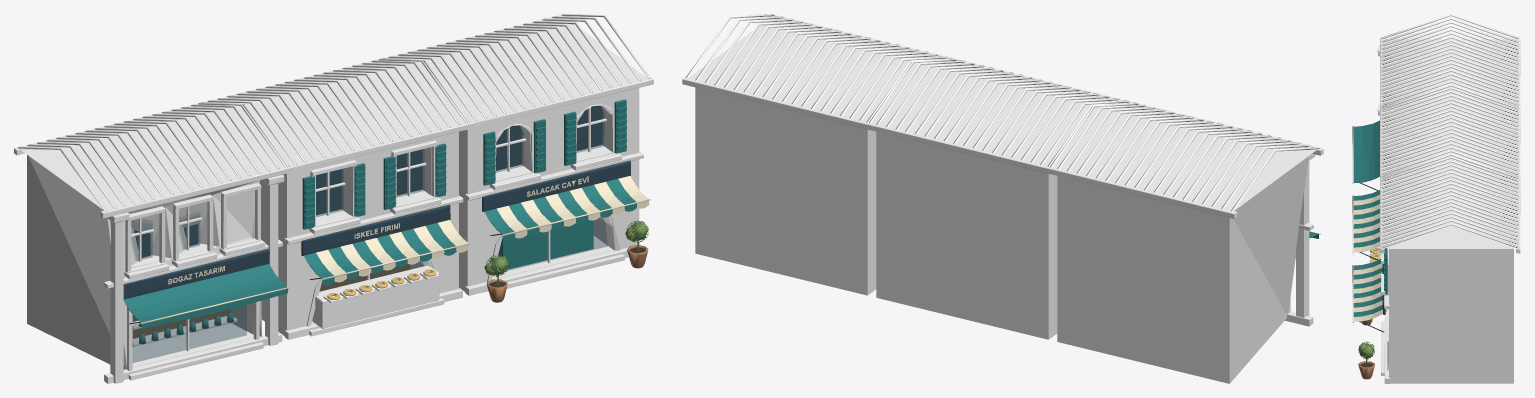
The model's file is DistrictBlock_7_0_LOD1.glb.
The picture shows the model from 3 angles, left to right: view 1: azimuth 30°, elevation 25°; view 2: azimuth 150°, elevation 25°; view 3: azimuth 270°, elevation 25°; orthographic projection. The views are drawn at different scales.
Visible parts, largest first — view 1: RK_DistrictBlock_7_0_LOD1_LC_Tile, RK_DistrictBlock_7_0_LOD1_LC_Wood, RK_DistrictBlock_7_0_LOD1_LC_Lime, RK_DistrictBlock_7_0_LOD1_LC_Cream, RK_DistrictBlock_7_0_LOD1_LC_Teal, RK_DistrictBlock_7_0_LOD1_LC_Ink, RK_DistrictBlock_7_0_LOD1_LC_Glass, RK_DistrictBlock_7_0_LOD1_LC_Canvas, RK_DistrictBlock_7_0_LOD1_LC_Interior, RK_DistrictBlock_7_0_LOD1_RK_Terracotta, RK_DistrictBlock_7_0_LOD1_RK_Leaf, RK_DistrictBlock_7_0_LOD1_LC_Gold; view 2: RK_DistrictBlock_7_0_LOD1_LC_Cream, RK_DistrictBlock_7_0_LOD1_LC_Tile, RK_DistrictBlock_7_0_LOD1_LC_Wood, RK_DistrictBlock_7_0_LOD1_LC_Lime; view 3: RK_DistrictBlock_7_0_LOD1_LC_Tile, RK_DistrictBlock_7_0_LOD1_LC_Cream, RK_DistrictBlock_7_0_LOD1_LC_Teal, RK_DistrictBlock_7_0_LOD1_LC_Canvas, RK_DistrictBlock_7_0_LOD1_LC_Wood, RK_DistrictBlock_7_0_LOD1_LC_Lime, RK_DistrictBlock_7_0_LOD1_RK_Terracotta, RK_DistrictBlock_7_0_LOD1_RK_Leaf.
Boxes of the visible parts, bbox=[...] form: RK_DistrictBlock_7_0_LOD1_LC_Tile: bbox=[17, 14, 650, 211]; RK_DistrictBlock_7_0_LOD1_LC_Wood: bbox=[14, 15, 653, 369]; RK_DistrictBlock_7_0_LOD1_LC_Lime: bbox=[104, 104, 643, 383]; RK_DistrictBlock_7_0_LOD1_LC_Cream: bbox=[260, 88, 639, 335]; RK_DistrictBlock_7_0_LOD1_LC_Teal: bbox=[123, 99, 636, 345]; RK_DistrictBlock_7_0_LOD1_LC_Ink: bbox=[123, 105, 630, 299]; RK_DistrictBlock_7_0_LOD1_LC_Glass: bbox=[131, 106, 607, 362]; RK_DistrictBlock_7_0_LOD1_LC_Canvas: bbox=[140, 176, 650, 324]; RK_DistrictBlock_7_0_LOD1_LC_Interior: bbox=[132, 264, 410, 338]; RK_DistrictBlock_7_0_LOD1_RK_Terracotta: bbox=[486, 245, 648, 302]; RK_DistrictBlock_7_0_LOD1_RK_Leaf: bbox=[484, 220, 648, 276]; RK_DistrictBlock_7_0_LOD1_LC_Gold: bbox=[327, 269, 436, 299]; RK_DistrictBlock_7_0_LOD1_LC_Cream: bbox=[695, 87, 1057, 339]; RK_DistrictBlock_7_0_LOD1_LC_Tile: bbox=[685, 14, 1320, 211]; RK_DistrictBlock_7_0_LOD1_LC_Wood: bbox=[682, 15, 1323, 383]; RK_DistrictBlock_7_0_LOD1_LC_Lime: bbox=[1285, 153, 1315, 326]; RK_DistrictBlock_7_0_LOD1_LC_Tile: bbox=[1381, 14, 1518, 248]; RK_DistrictBlock_7_0_LOD1_LC_Cream: bbox=[1389, 248, 1513, 383]; RK_DistrictBlock_7_0_LOD1_LC_Teal: bbox=[1353, 120, 1387, 316]; RK_DistrictBlock_7_0_LOD1_LC_Canvas: bbox=[1352, 126, 1382, 325]; RK_DistrictBlock_7_0_LOD1_LC_Wood: bbox=[1380, 37, 1520, 255]; RK_DistrictBlock_7_0_LOD1_LC_Lime: bbox=[1369, 45, 1390, 383]; RK_DistrictBlock_7_0_LOD1_RK_Terracotta: bbox=[1358, 318, 1374, 379]; RK_DistrictBlock_7_0_LOD1_RK_Leaf: bbox=[1358, 342, 1374, 359].
Bounding box in the file's own units: 19.22 × 6.89 × 6.45.
